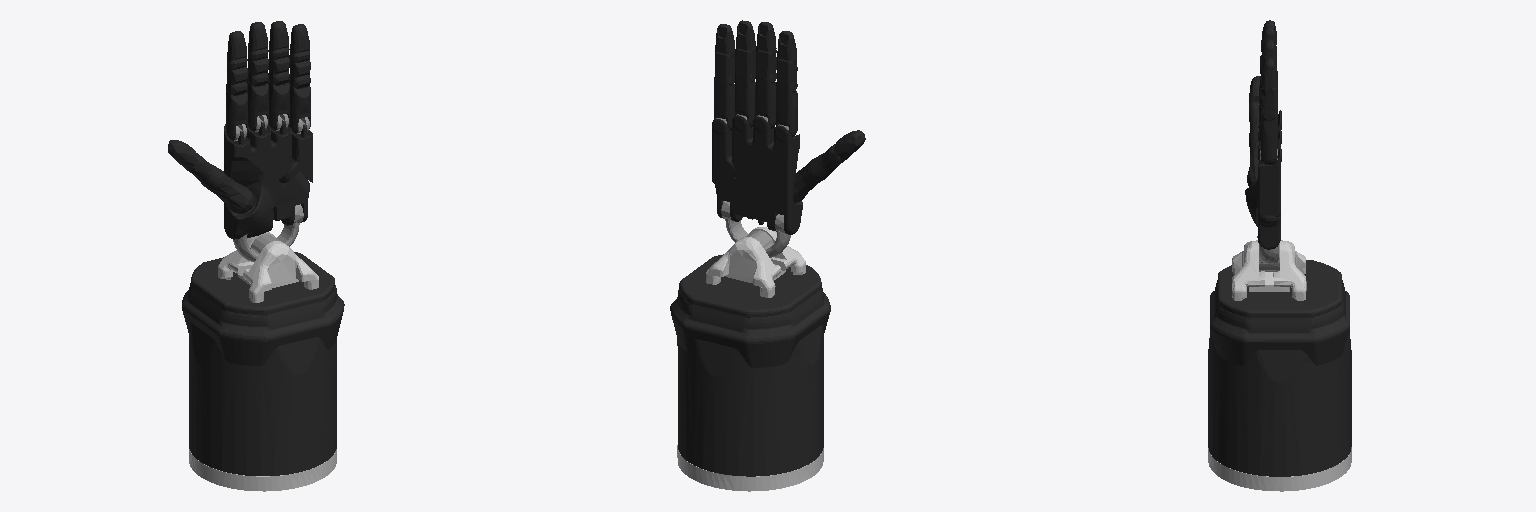
--- What the picture shows (computed from the rendered views, not written in the file) ---
Views: 3 orthographic renders of the robot side by side, from view 1: azimuth 30°, elevation 25°; view 2: azimuth 150°, elevation 25°; view 3: azimuth 270°, elevation 25°.
Robot: shadowhand_motor — 33 links, 32 joints (24 revolute, 8 fixed); root link world; default pose: every joint at zero.
Visible links, largest first — view 1: lh_forearm, lh_palm, lh_wrist, lh_lfmetacarpal, lh_thproximal, lh_ffproximal, lh_mfproximal, lh_rfproximal, lh_lfproximal, lh_ffmiddle, lh_thmiddle, lh_mfmiddle (+3 smaller); view 2: lh_forearm, lh_palm, lh_wrist, lh_lfmetacarpal, lh_ffproximal, lh_mfproximal, lh_lfproximal, lh_rfproximal, lh_thmiddle, lh_rfmiddle, lh_mfmiddle, lh_ffmiddle (+3 smaller); view 3: lh_forearm, lh_palm, lh_lfmetacarpal, lh_lfproximal, lh_lfmiddle.
Boxes of the visible links, box(x1,y1,x2,y2) form: lh_forearm: box(182, 232, 344, 491); lh_palm: box(224, 121, 309, 239); lh_wrist: box(233, 204, 303, 261); lh_lfmetacarpal: box(278, 125, 312, 182); lh_thproximal: box(210, 174, 254, 213); lh_ffproximal: box(226, 89, 247, 140); lh_mfproximal: box(247, 80, 268, 131); lh_rfproximal: box(268, 81, 289, 130); lh_lfproximal: box(289, 83, 310, 133); lh_ffmiddle: box(226, 57, 247, 95); lh_thmiddle: box(187, 153, 226, 191); lh_mfmiddle: box(247, 48, 268, 86); lh_forearm: box(670, 227, 830, 491); lh_palm: box(715, 115, 802, 234); lh_wrist: box(721, 201, 790, 257); lh_lfmetacarpal: box(712, 119, 740, 184); lh_ffproximal: box(776, 86, 797, 136); lh_mfproximal: box(755, 77, 775, 128); lh_lfproximal: box(714, 79, 734, 130); lh_rfproximal: box(735, 76, 755, 127); lh_thmiddle: box(807, 144, 846, 181); lh_rfmiddle: box(735, 48, 755, 81); lh_mfmiddle: box(755, 48, 776, 82); lh_ffmiddle: box(776, 57, 797, 92); lh_forearm: box(1208, 240, 1351, 491); lh_palm: box(1245, 110, 1281, 249); lh_lfmetacarpal: box(1258, 147, 1281, 216); lh_lfproximal: box(1259, 114, 1277, 165); lh_lfmiddle: box(1260, 84, 1277, 120).
Bounding box of the posed robot: 0.1783 × 0.1351 × 0.4454 m (x, y, z).
23 mesh visuals loaded from 11 distinct referenced files (11 Collada DAE).

robot.urdf — shadowhand_motor:
<?xml version="1.0" ?>
<!-- =================================================================================== -->
<!-- |    This document was autogenerated by xacro from [local-path]/projects/shadow/mujoco_left_hand/base/src/sr_common/sr_description/robots/shadowhand_left_motor_plus.urdf.xacro | -->
<!-- |    EDITING THIS FILE BY HAND IS NOT RECOMMENDED                                 | -->
<!-- =================================================================================== -->
<robot name="shadowhand_motor" xmlns:body="http://playerstage.sourceforge.net/gazebo/xmlschema/#body" xmlns:controller="http://playerstage.sourceforge.net/gazebo/xmlschema/#controller" xmlns:geom="http://playerstage.sourceforge.net/gazebo/xmlschema/#geom" xmlns:interface="http://playerstage.sourceforge.net/gazebo/xmlschema/#interface" xmlns:joint="http://playerstage.sourceforge.net/gazebo/xmlschema/#slider" xmlns:sensor="http://playerstage.sourceforge.net/gazebo/xmlschema/#sensor" xmlns:xacro="http://www.ros.org/wiki/xacro">
  <material name="Blue">
    <color rgba="0.0 0.0 0.8 1.0"/>
  </material>
  <material name="Green">
    <color rgba="0.0 0.8 0.0 1.0"/>
  </material>
  <material name="BiotacGreen">
    <color rgba="0.31 0.85 0.42 1.0"/>
  </material>
  <material name="Grey">
    <color rgba="0.2 0.2 0.2 1.0"/>
  </material>
  <material name="LightGrey">
    <color rgba="0.6 0.6 0.6 1.0"/>
  </material>
  <material name="Red">
    <color rgba="0.8 0.0 0.0 1.0"/>
  </material>
  <material name="White">
    <color rgba="1.0 1.0 1.0 1.0"/>
  </material>
  <gazebo>
    <plugin filename="libgazebo_ros_control.so" name="gazebo_ros_control">
      <robotSimType>sr_gazebo_sim/SrGazeboHWSim</robotSimType>
    </plugin>
  </gazebo>
  <!-- hand with cylindrical base drifts in gazebo, attach it to the world -->
  <link name="world"/>
  <joint name="lh_world_joint" type="fixed">
    <parent link="world"/>
    <child link="lh_forearm"/>
    <origin rpy="0.0 0.0 0.0" xyz="0.0 0.0 0.0"/>
  </joint>
  <link name="lh_forearm">
    <inertial>
      <origin rpy="0 0 0" xyz="0 0 0.09"/>
      <mass value="3.0"/>
      <inertia ixx="0.0138" ixy="0.0" ixz="0.0" iyy="0.0138" iyz="0.0" izz="0.00744"/>
    </inertial>
    <visual>
      <origin rpy="0 0 0" xyz="0 0 0"/>
      <geometry name="lh_forearm_visual">
        <mesh filename="package://sr_description/meshes/hand/forearm_visual_plus.dae" scale="0.001 0.001 0.001"/>
      </geometry>
      <material name="light_grey"/>
    </visual>
    <collision>
      <origin rpy="0 0 0" xyz="0 0 0"/>
      <geometry name="lh_forearm_collision">
        <mesh filename="package://sr_description/meshes/hand/forearm_collision_plus.stl" scale="0.001 0.001 0.001"/>
      </geometry>
      <material name="dark_grey">
        <color rgba="0.21961 0.21961 0.21961 1.0"/>
      </material>
    </collision>
    <!-- wrist mount -->
    <collision>
      <origin rpy="0 0.78 0" xyz="0 -0.01 0.181"/>
      <geometry>
        <box size="0.07 0.07 0.07"/>
      </geometry>
    </collision>
  </link>
  <gazebo reference="lh_forearm">
    <selfCollide>false</selfCollide>
  </gazebo>
  <link name="lh_wrist">
    <inertial>
      <origin rpy="0 0 0" xyz="0 0 0.029"/>
      <mass value="0.1"/>
      <inertia ixx="0.000035" ixy="0.0" ixz="0.0" iyy="0.000064" iyz="0.0" izz="0.0000438"/>
    </inertial>
    <visual>
      <origin rpy="0 0 0" xyz="0 0 0"/>
      <geometry name="lh_wrist_visual">
        <mesh filename="package://sr_description/meshes/hand/wrist.dae" scale="-0.001 0.001 0.001"/>
      </geometry>
      <material name="LightGrey"/>
    </visual>
    <collision>
      <origin rpy="1.5708 1.5708 0" xyz="0 0 0"/>
      <geometry name="lh_wrist_collision_geom">
        <cylinder length="0.030" radius="0.0135"/>
      </geometry>
    </collision>
    <collision>
      <origin rpy="0 1.5708 0" xyz="0.026 0 0.034"/>
      <geometry>
        <cylinder length="0.010" radius="0.011"/>
      </geometry>
    </collision>
    <collision>
      <origin rpy="0 1.5708 0" xyz="-0.031 0 0.034"/>
      <geometry>
        <cylinder length="0.010" radius="0.011"/>
      </geometry>
    </collision>
    <collision>
      <origin rpy="0 -0.7854 0" xyz="0.021 0 0.011"/>
      <geometry>
        <box size="0.027 0.018 0.010"/>
      </geometry>
    </collision>
    <collision>
      <origin rpy="0 0.7854 0" xyz="-0.026 0 0.010"/>
      <geometry>
        <box size="0.027 0.018 0.010"/>
      </geometry>
    </collision>
  </link>
  <gazebo reference="lh_wrist">
    <material>Gazebo/White</material>
    <selfCollide>false</selfCollide>
  </gazebo>
  <joint name="lh_WRJ2" type="revolute">
    <parent link="lh_forearm"/>
    <child link="lh_wrist"/>
    <origin rpy="0 0 0" xyz="0 -0.010 0.213"/>
    <axis xyz="0 -1.0 0"/>
    <limit effort="10.0" lower="-0.523598775598" upper="0.174532925199" velocity="2.0"/>
    <dynamics damping="0.1"/>
  </joint>
  <gazebo reference="lh_WRJ2">
    <provideFeedback>1</provideFeedback>
    <implicitSpringDamper>1</implicitSpringDamper>
  </gazebo>
  <transmission name="lh_wrist_transmission">
    <type>sr_mechanism_model/SimpleTransmission</type>
    <actuator name="lh_WRJ2">
      <mechanicalReduction>1</mechanicalReduction>
    </actuator>
    <joint name="lh_WRJ2">
      <hardwareInterface>hardware_interface/EffortJointInterface</hardwareInterface>
    </joint>
  </transmission>
  <link name="lh_palm">
    <inertial>
      <origin rpy="0 0 0" xyz="0 0 0.035"/>
      <mass value="0.3"/>
      <inertia ixx="0.0003581" ixy="0.0" ixz="0.0" iyy="0.0005287" iyz="0.0" izz="0.000191"/>
    </inertial>
    <visual>
      <origin rpy="0 0 0" xyz="0 0 0"/>
      <geometry name="lh_palm_visual">
        <mesh filename="package://sr_description/meshes/hand/palm.dae" scale="-0.001 0.001 0.001"/>
      </geometry>
      <material name="Grey"/>
    </visual>
    <collision>
      <origin rpy="0 0 0" xyz="-0.011 0.0085 0.038"/>
      <geometry name="lh_palm_collision_geom">
        <box size="0.062 0.007 0.098"/>
      </geometry>
    </collision>
    <collision>
      <origin rpy="0 0 0" xyz="0.002 -0.0035 0.038"/>
      <geometry>
        <box size="0.036 0.017 0.098"/>
      </geometry>
    </collision>
    <!-- palm complement below first finger -->
    <collision>
      <origin rpy="0 0 0" xyz="-0.029 -0.0035 0.082"/>
      <geometry>
        <box size="0.026 0.017 0.010"/>
      </geometry>
    </collision>
    <collision>
      <origin rpy="0.2 0 -0.25" xyz="-0.0265 -0.001 0.070"/>
      <geometry>
        <box size="0.026 0.014 0.018"/>
      </geometry>
    </collision>
    <!-- thumb pulp side -->
    <collision>
      <origin rpy="0 0 0" xyz="-0.0315 -0.0085 0.001"/>
      <geometry>
        <box size="0.021 0.027 0.024"/>
      </geometry>
    </collision>
    <!-- thumb pulp central -->
    <collision>
      <origin rpy="0 0 0.48" xyz="-0.0125 -0.015 0.009"/>
      <geometry>
        <box size="0.022 0.005 0.040"/>
      </geometry>
    </collision>
    <!-- above middle finger-->
    <collision>
      <origin rpy="0 0 0" xyz="-0.011 0 0.089"/>
      <geometry>
        <box size="0.018 0.024 0.004"/>
      </geometry>
    </collision>
    <!-- metacarpal side-->
    <collision>
      <origin rpy="0 0 0" xyz="0.03 0 0.009"/>
      <geometry>
        <box size="0.020 0.024 0.040"/>
      </geometry>
    </collision>
  </link>
  <joint name="lh_ee_fixed_joint" type="fixed">
    <parent link="lh_palm"/>
    <child link="lh_manipulator"/>
    <origin rpy="0.0 0.0 0.0" xyz="0.0 0.0 0.05"/>
  </joint>
  <link name="lh_manipulator"/>
  <joint name="lh_WRJ1" type="revolute">
    <parent link="lh_wrist"/>
    <child link="lh_palm"/>
    <origin rpy="0 0 0" xyz="0 0 0.034"/>
    <axis xyz="1 0 0"/>
    <limit effort="5.0" lower="-0.698131700798" upper="0.488692190558" velocity="2.0"/>
    <dynamics damping="0.1"/>
  </joint>
  <gazebo reference="lh_WRJ1">
    <provideFeedback>1</provideFeedback>
    <implicitSpringDamper>1</implicitSpringDamper>
  </gazebo>
  <link name="lh_imu"/>
  <joint name="lh_palm_to_imu" type="fixed">
    <parent link="lh_palm"/>
    <child link="lh_imu"/>
    <origin rpy="-1.5707963 3.141592 0.0" xyz="0.01785 0.00765 0.049125"/>
  </joint>
  <sensor name="lh_imu" update_rate="100">
    <parent link="lh_imu"/>
    <origin rpy="0 0 0" xyz="0 0 0"/>
  </sensor>
  <transmission name="lh_palm_transmission">
    <type>sr_mechanism_model/SimpleTransmission</type>
    <actuator name="lh_WRJ1">
      <mechanicalReduction>1</mechanicalReduction>
    </actuator>
    <joint name="lh_WRJ1">
      <hardwareInterface>hardware_interface/EffortJointInterface</hardwareInterface>
    </joint>
  </transmission>
  <!-- prefix can be anything but usually is "r_" or  "l_" for right and left hands distinction -->
  <gazebo reference="lh_palm">
    <sensor name="lh_palm_contact" type="contact">
      <always_on>1</always_on>
      <update_rate>1000.0</update_rate>
      <contact>
        <collision>lh_palm_collision</collision>
        <topic>lh_palm_collision</topic>
      </contact>
      <plugin filename="libgazebo_ros_bumper.so" name="lh_palm_gazebo_ros_bumper_controller">
        <alwaysOn>true</alwaysOn>
        <frameName>lh_palm</frameName>
        <updateRate>100.0</updateRate>
        <bumperTopicName>contacts/lh_palm</bumperTopicName>
      </plugin>
    </sensor>
  </gazebo>
  <link name="lh_ffknuckle">
    <inertial>
      <origin rpy="0 0 0" xyz="0 0 0"/>
      <mass value="0.008"/>
      <inertia ixx="0.00000026" ixy="0.0" ixz="0.0" iyy="0.00000026" iyz="0.0" izz="0.00000032"/>
    </inertial>
    <visual>
      <origin rpy="0 0 0" xyz="0 0 0.0005"/>
      <geometry name="lh_ffknuckle_visual">
        <mesh filename="package://sr_description/meshes/hand/knuckle.dae" scale="0.001 0.001 0.001"/>
      </geometry>
      <material name="LightGrey"/>
    </visual>
    <collision>
      <origin rpy="0 1.5708 0" xyz="0 0 0"/>
      <geometry name="lh_ffknuckle_collision_geom">
        <cylinder length="0.014" radius="0.007"/>
      </geometry>
    </collision>
  </link>
  <joint name="lh_FFJ4" type="revolute">
    <parent link="lh_palm"/>
    <child link="lh_ffknuckle"/>
    <!--<origin xyz="0.033 0 0.095" rpy="0 0 0" />-->
    <origin rpy="0 0 0" xyz="-0.033 0 0.095"/>
    <axis xyz="0 1.0 0"/>
    <limit effort="4.0" lower="-0.349065850399" upper="0.349065850399" velocity="2.0"/>
    <dynamics damping="0.1"/>
  </joint>
  <gazebo reference="lh_FFJ4">
    <provideFeedback>1</provideFeedback>
    <implicitSpringDamper>1</implicitSpringDamper>
  </gazebo>
  <transmission name="lh_ffknuckle_transmission">
    <type>sr_mechanism_model/SimpleTransmission</type>
    <actuator name="lh_FFJ4">
      <mechanicalReduction>1</mechanicalReduction>
    </actuator>
    <joint name="lh_FFJ4">
      <hardwareInterface>hardware_interface/EffortJointInterface</hardwareInterface>
    </joint>
  </transmission>
  <!-- prefix can be anything but usually is "r_" or  "l_" for right and left hands distinction -->
  <gazebo reference="lh_ffknuckle">
    <sensor name="lh_ffknuckle_contact" type="contact">
      <always_on>1</always_on>
      <update_rate>1000.0</update_rate>
      <contact>
        <collision>lh_ffknuckle_collision</collision>
        <topic>lh_ffknuckle_collision</topic>
      </contact>
      <plugin filename="libgazebo_ros_bumper.so" name="lh_ffknuckle_gazebo_ros_bumper_controller">
        <alwaysOn>true</alwaysOn>
        <frameName>lh_ffknuckle</frameName>
        <updateRate>100.0</updateRate>
        <bumperTopicName>contacts/lh_ff/knuckle</bumperTopicName>
      </plugin>
    </sensor>
    <material>Gazebo/Grey</material>
  </gazebo>
  <link name="lh_ffproximal">
    <inertial>
      <mass value="0.030"/>
      <origin xyz="0 0 0.0225"/>
      <inertia ixx="0.0000098" ixy="0.0" ixz="0.0" iyy="0.00001" iyz="0.0" izz="0.0000018"/>
    </inertial>
    <visual>
      <origin rpy="0 0 0" xyz="0 0 0"/>
      <geometry name="lh_ffproximal_visual">
        <mesh filename="package://sr_description/meshes/hand/F3.dae" scale="0.001 0.001 0.001"/>
      </geometry>
      <material name="Grey"/>
    </visual>
    <collision>
      <origin rpy="0 0 0" xyz="0 0 0.025"/>
      <geometry name="lh_ffproximal_collision_geom">
        <cylinder length="0.040" radius="0.007"/>
      </geometry>
    </collision>
  </link>
  <joint name="lh_FFJ3" type="revolute">
    <parent link="lh_ffknuckle"/>
    <child link="lh_ffproximal"/>
    <origin rpy="0 0 0" xyz="0 0 0"/>
    <axis xyz="1 0 0"/>
    <limit effort="4.0" lower="0" upper="1.57079632679" velocity="2.0"/>
    <dynamics damping="0.1"/>
  </joint>
  <gazebo reference="lh_FFJ3">
    <provideFeedback>1</provideFeedback>
    <implicitSpringDamper>1</implicitSpringDamper>
  </gazebo>
  <transmission name="lh_ffproximal_transmission">
    <type>sr_mechanism_model/SimpleTransmission</type>
    <actuator name="lh_FFJ3">
      <mechanicalReduction>1</mechanicalReduction>
    </actuator>
    <joint name="lh_FFJ3">
      <hardwareInterface>hardware_interface/EffortJointInterface</hardwareInterface>
    </joint>
  </transmission>
  <!-- prefix can be anything but usually is "r_" or  "l_" for right and left hands distinction -->
  <gazebo reference="lh_ffproximal">
    <sensor name="lh_ffproximal_contact" type="contact">
      <always_on>1</always_on>
      <update_rate>1000.0</update_rate>
      <contact>
        <collision>lh_ffproximal_collision</collision>
        <topic>lh_ffproximal_collision</topic>
      </contact>
      <plugin filename="libgazebo_ros_bumper.so" name="lh_ffproximal_gazebo_ros_bumper_controller">
        <alwaysOn>true</alwaysOn>
        <frameName>lh_ffproximal</frameName>
        <updateRate>100.0</updateRate>
        <bumperTopicName>contacts/lh_ff/proximal</bumperTopicName>
      </plugin>
    </sensor>
    <selfCollide>true</selfCollide>
  </gazebo>
  <link name="lh_ffmiddle">
    <inertial>
      <origin rpy="0 0 0" xyz="0 0 0.0125"/>
      <mass value="0.017"/>
      <inertia ixx="0.0000026" ixy="0.0" ixz="0.0" iyy="0.0000027" iyz="0.0" izz="0.00000087"/>
    </inertial>
    <visual>
      <origin rpy="0 0 0" xyz="0 0 0"/>
      <geometry name="lh_ffmiddle_visual">
        <mesh filename="package://sr_description/meshes/hand/F2.dae" scale="0.001 0.001 0.001"/>
      </geometry>
      <material name="Grey"/>
    </visual>
    <collision>
      <origin rpy="0 0 0" xyz="0 0 0.0125"/>
      <geometry name="lh_ffmiddle_collision_geom">
        <cylinder length="0.025" radius="0.007"/>
      </geometry>
    </collision>
    <collision>
      <origin rpy="0 0 0" xyz="0 0 0.0"/>
      <geometry>
        <sphere radius="0.007"/>
      </geometry>
    </collision>
    <collision>
      <origin rpy="0 0 0" xyz="0 0 0.025"/>
      <geometry>
        <sphere radius="0.007"/>
      </geometry>
    </collision>
  </link>
  <joint name="lh_FFJ2" type="revolute">
    <parent link="lh_ffproximal"/>
    <child link="lh_ffmiddle"/>
    <origin rpy="0 0 0" xyz="0 0 0.045"/>
    <axis xyz="1 0 0"/>
    <limit effort="4.0" lower="0" upper="1.57079632679" velocity="2.0"/>
    <dynamics damping="0.1"/>
  </joint>
  <gazebo reference="lh_FFJ2">
    <provideFeedback>1</provideFeedback>
    <implicitSpringDamper>1</implicitSpringDamper>
  </gazebo>
  <transmission name="lh_ffmiddle_transmission">
    <type>sr_mechanism_model/SimpleTransmission</type>
    <actuator name="lh_FFJ2">
      <mechanicalReduction>1</mechanicalReduction>
    </actuator>
    <joint name="lh_FFJ2">
      <hardwareInterface>hardware_interface/EffortJointInterface</hardwareInterface>
    </joint>
    <!-- <joint name="lh_FFJ1">
      <hardwareInterface>hardware_interface/EffortJointInterface</hardwareInterface>
    </joint> -->
  </transmission>
  <!-- prefix can be anything but usually is "r_" or  "l_" for right and left hands distinction -->
  <gazebo reference="lh_ffmiddle">
    <sensor name="lh_ffmiddle_contact" type="contact">
      <always_on>1</always_on>
      <update_rate>1000.0</update_rate>
      <contact>
        <collision>lh_ffmiddle_collision</collision>
        <topic>lh_ffmiddle_collision</topic>
      </contact>
      <plugin filename="libgazebo_ros_bumper.so" name="lh_ffproximal_gazebo_ros_bumper_controller">
        <alwaysOn>true</alwaysOn>
        <frameName>lh_ffmiddle</frameName>
        <updateRate>100.0</updateRate>
        <bumperTopicName>contacts/lh_ff/middle</bumperTopicName>
      </plugin>
    </sensor>
    <selfCollide>true</selfCollide>
  </gazebo>
  <link name="lh_ffdistal">
    <inertial>
      <mass value="0.012"/>
      <origin xyz="0 0 0.012"/>
      <inertia ixx="0.00000094" ixy="0.0" ixz="0.0" iyy="0.0000011" iyz="0.0" izz="0.00000053"/>
    </inertial>
    <visual>
      <origin rpy="0 0 0" xyz="0 0 0"/>
      <geometry name="lh_ffdistal_visual">
        <!-- Standard distal  -->
        <mesh filename="package://sr_description/meshes/hand/F1.dae" scale="0.001 0.001 0.001"/>
      </geometry>
      <material name="Grey"/>
    </visual>
    <collision>
      <origin rpy="0 0 0" xyz="0 0 0"/>
      <geometry name="lh_ffdistal_collision_geom">
        <!-- Standard distal  -->
        <mesh filename="package://sr_description/meshes/hand/F1.dae" scale="0.001 0.001 0.001"/>
      </geometry>
    </collision>
  </link>
  <joint name="lh_FFJ1" type="revolute">
    <parent link="lh_ffmiddle"/>
    <child link="lh_ffdistal"/>
    <origin rpy="0 0 0" xyz="0 0 0.025"/>
    <axis xyz="1 0 0"/>
    <!-- standard distal joint -->
    <limit effort="4.0" lower="0" upper="1.57079632679" velocity="2.0"/>
    <dynamics damping="0.1"/>
  </joint>
  <gazebo reference="lh_FFJ1">
    <provideFeedback>1</provideFeedback>
    <implicitSpringDamper>1</implicitSpringDamper>
  </gazebo>
  <link name="lh_fftip">
    <inertial>
      <mass value="0.001"/>
      <inertia ixx="0.0" ixy="0.0" ixz="0.0" iyy="0.0" iyz="0.0" izz="0.0"/>
    </inertial>
  </link>
  <joint name="lh_FFtip" type="fixed">
    <parent link="lh_ffdistal"/>
    <child link="lh_fftip"/>
    <origin rpy="0 0 0" xyz="0 0 0.026"/>
  </joint>
  <transmission name="lh_ffdistal_transmission">
    <type>sr_mechanism_model/SimpleTransmission</type>
    <actuator name="lh_FFJ1">
      <mechanicalReduction>1</mechanicalReduction>
    </actuator>
    <joint name="lh_FFJ1">
      <hardwareInterface>hardware_interface/EffortJointInterface</hardwareInterface>
    </joint>
  </transmission>
  <!-- prefix can be anything but usually is "r_" or  "l_" for right and left hands distinction -->
  <gazebo reference="lh_ffdistal">
    <sensor name="lh_ffdistal_contact" type="contact">
      <always_on>1</always_on>
      <update_rate>1000.0</update_rate>
      <contact>
        <collision>lh_ffdistal_collision</collision>
        <topic>lh_ffdistal_collision</topic>
      </contact>
      <plugin filename="libgazebo_ros_bumper.so" name="lh_ffdistal_gazebo_ros_bumper_controller">
        <alwaysOn>true</alwaysOn>
        <frameName>lh_ffdistal</frameName>
        <updateRate>100.0</updateRate>
        <bumperTopicName>contacts/lh_ff/distal</bumperTopicName>
      </plugin>
    </sensor>
    <mu1 value="500.0"/>
    <mu2 value="500.0"/>
    <kp value="10000000.0"/>
    <kd value="1.0"/>
    <selfCollide>true</selfCollide>
  </gazebo>
  <link name="lh_mfknuckle">
    <inertial>
      <origin rpy="0 0 0" xyz="0 0 0"/>
      <mass value="0.008"/>
      <inertia ixx="0.00000026" ixy="0.0" ixz="0.0" iyy="0.00000026" iyz="0.0" izz="0.00000032"/>
    </inertial>
    <visual>
      <origin rpy="0 0 0" xyz="0 0 0.0005"/>
      <geometry name="lh_mfknuckle_visual">
        <mesh filename="package://sr_description/meshes/hand/knuckle.dae" scale="0.001 0.001 0.001"/>
      </geometry>
      <material name="LightGrey"/>
    </visual>
    <collision>
      <origin rpy="0 1.5708 0" xyz="0 0 0"/>
      <geometry name="lh_mfknuckle_collision_geom">
        <cylinder length="0.014" radius="0.007"/>
      </geometry>
    </collision>
  </link>
  <joint name="lh_MFJ4" type="revolute">
    <parent link="lh_palm"/>
    <child link="lh_mfknuckle"/>
    <!--<origin xyz="0.033 0 0.095" rpy="0 0 0" />-->
    <origin rpy="0 0 0" xyz="-0.011 0 0.099"/>
    <axis xyz="0 1.0 0"/>
    <limit effort="4.0" lower="-0.349065850399" upper="0.349065850399" velocity="2.0"/>
    <dynamics damping="0.1"/>
  </joint>
  <gazebo reference="lh_MFJ4">
    <provideFeedback>1</provideFeedback>
    <implicitSpringDamper>1</implicitSpringDamper>
  </gazebo>
  <transmission name="lh_mfknuckle_transmission">
    <type>sr_mechanism_model/SimpleTransmission</type>
    <actuator name="lh_MFJ4">
      <mechanicalReduction>1</mechanicalReduction>
    </actuator>
    <joint name="lh_MFJ4">
      <hardwareInterface>hardware_interface/EffortJointInterface</hardwareInterface>
    </joint>
  </transmission>
  <!-- prefix can be anything but usually is "r_" or  "l_" for right and left hands distinction -->
  <gazebo reference="lh_mfknuckle">
    <sensor name="lh_mfknuckle_contact" type="contact">
      <always_on>1</always_on>
      <update_rate>1000.0</update_rate>
      <contact>
        <collision>lh_mfknuckle_collision</collision>
        <topic>lh_mfknuckle_collision</topic>
      </contact>
      <plugin filename="libgazebo_ros_bumper.so" name="lh_mfknuckle_gazebo_ros_bumper_controller">
        <alwaysOn>true</alwaysOn>
        <frameName>lh_mfknuckle</frameName>
        <updateRate>100.0</updateRate>
        <bumperTopicName>contacts/lh_mf/knuckle</bumperTopicName>
      </plugin>
    </sensor>
    <material>Gazebo/Grey</material>
  </gazebo>
  <link name="lh_mfproximal">
    <inertial>
      <mass value="0.030"/>
      <origin xyz="0 0 0.0225"/>
      <inertia ixx="0.0000098" ixy="0.0" ixz="0.0" iyy="0.00001" iyz="0.0" izz="0.0000018"/>
    </inertial>
    <visual>
      <origin rpy="0 0 0" xyz="0 0 0"/>
      <geometry name="lh_mfproximal_visual">
        <mesh filename="package://sr_description/meshes/hand/F3.dae" scale="0.001 0.001 0.001"/>
      </geometry>
      <material name="Grey"/>
    </visual>
    <collision>
      <origin rpy="0 0 0" xyz="0 0 0.025"/>
      <geometry name="lh_mfproximal_collision_geom">
        <cylinder length="0.040" radius="0.007"/>
      </geometry>
    </collision>
  </link>
  <joint name="lh_MFJ3" type="revolute">
    <parent link="lh_mfknuckle"/>
    <child link="lh_mfproximal"/>
    <origin rpy="0 0 0" xyz="0 0 0"/>
    <axis xyz="1 0 0"/>
    <limit effort="4.0" lower="0" upper="1.57079632679" velocity="2.0"/>
    <dynamics damping="0.1"/>
  </joint>
  <gazebo reference="lh_MFJ3">
    <provideFeedback>1</provideFeedback>
    <implicitSpringDamper>1</implicitSpringDamper>
  </gazebo>
  <transmission name="lh_mfproximal_transmission">
    <type>sr_mechanism_model/SimpleTransmission</type>
    <actuator name="lh_MFJ3">
      <mechanicalReduction>1</mechanicalReduction>
    </actuator>
    <joint name="lh_MFJ3">
      <hardwareInterface>hardware_interface/EffortJointInterface</hardwareInterface>
    </joint>
  </transmission>
  <!-- prefix can be anything but usually is "r_" or  "l_" for right and left hands distinction -->
  <gazebo reference="lh_mfproximal">
    <sensor name="lh_mfproximal_contact" type="contact">
      <always_on>1</always_on>
      <update_rate>1000.0</update_rate>
      <contact>
        <collision>lh_mfproximal_collision</collision>
        <topic>lh_mfproximal_collision</topic>
      </contact>
      <plugin filename="libgazebo_ros_bumper.so" name="lh_mfproximal_gazebo_ros_bumper_controller">
        <alwaysOn>true</alwaysOn>
        <frameName>lh_mfproximal</frameName>
        <updateRate>100.0</updateRate>
        <bumperTopicName>contacts/lh_mf/proximal</bumperTopicName>
      </plugin>
    </sensor>
    <selfCollide>true</selfCollide>
  </gazebo>
  <link name="lh_mfmiddle">
    <inertial>
      <origin rpy="0 0 0" xyz="0 0 0.0125"/>
      <mass value="0.017"/>
      <inertia ixx="0.0000026" ixy="0.0" ixz="0.0" iyy="0.0000027" iyz="0.0" izz="0.00000087"/>
    </inertial>
    <visual>
      <origin rpy="0 0 0" xyz="0 0 0"/>
      <geometry name="lh_mfmiddle_visual">
        <mesh filename="package://sr_description/meshes/hand/F2.dae" scale="0.001 0.001 0.001"/>
      </geometry>
      <material name="Grey"/>
    </visual>
    <collision>
      <origin rpy="0 0 0" xyz="0 0 0.0125"/>
      <geometry name="lh_mfmiddle_collision_geom">
        <cylinder length="0.025" radius="0.007"/>
      </geometry>
    </collision>
    <collision>
      <origin rpy="0 0 0" xyz="0 0 0.0"/>
      <geometry>
        <sphere radius="0.007"/>
      </geometry>
    </collision>
    <collision>
      <origin rpy="0 0 0" xyz="0 0 0.025"/>
      <geometry>
        <sphere radius="0.007"/>
      </geometry>
    </collision>
  </link>
  <joint name="lh_MFJ2" type="revolute">
    <parent link="lh_mfproximal"/>
    <child link="lh_mfmiddle"/>
    <origin rpy="0 0 0" xyz="0 0 0.045"/>
    <axis xyz="1 0 0"/>
    <limit effort="4.0" lower="0" upper="1.57079632679" velocity="2.0"/>
    <dynamics damping="0.1"/>
  </joint>
  <gazebo reference="lh_MFJ2">
    <provideFeedback>1</provideFeedback>
    <implicitSpringDamper>1</implicitSpringDamper>
  </gazebo>
  <transmission name="lh_mfmiddle_transmission">
    <type>sr_mechanism_model/SimpleTransmission</type>
    <actuator name="lh_MFJ2">
      <mechanicalReduction>1</mechanicalReduction>
    </actuator>
    <joint name="lh_MFJ2">
      <hardwareInterface>hardware_interface/EffortJointInterface</hardwareInterface>
    </joint>
  </transmission>
  <!-- prefix can be anything but usually is "r_" or  "l_" for right and left hands distinction -->
  <gazebo reference="lh_mfmiddle">
    <sensor name="lh_mfmiddle_contact" type="contact">
      <always_on>1</always_on>
      <update_rate>1000.0</update_rate>
      <contact>
        <collision>lh_mfmiddle_collision</collision>
        <topic>lh_mfmiddle_collision</topic>
      </contact>
      <plugin filename="libgazebo_ros_bumper.so" name="lh_mfproximal_gazebo_ros_bumper_controller">
        <alwaysOn>true</alwaysOn>
        <frameName>lh_mfmiddle</frameName>
        <updateRate>100.0</updateRate>
        <bumperTopicName>contacts/lh_mf/middle</bumperTopicName>
      </plugin>
    </sensor>
    <selfCollide>true</selfCollide>
  </gazebo>
  <link name="lh_mfdistal">
    <inertial>
      <mass value="0.012"/>
      <origin xyz="0 0 0.012"/>
      <inertia ixx="0.00000094" ixy="0.0" ixz="0.0" iyy="0.0000011" iyz="0.0" izz="0.00000053"/>
    </inertial>
    <visual>
      <origin rpy="0 0 0" xyz="0 0 0"/>
      <geometry name="lh_mfdistal_visual">
        <!-- Standard distal  -->
        <mesh filename="package://sr_description/meshes/hand/F1.dae" scale="0.001 0.001 0.001"/>
      </geometry>
      <material name="Grey"/>
    </visual>
    <collision>
      <origin rpy="0 0 0" xyz="0 0 0"/>
      <geometry name="lh_mfdistal_collision_geom">
        <!-- Standard distal  -->
        <mesh filename="package://sr_description/meshes/hand/F1.dae" scale="0.001 0.001 0.001"/>
      </geometry>
    </collision>
  </link>
  <joint name="lh_MFJ1" type="revolute">
    <parent link="lh_mfmiddle"/>
    <child link="lh_mfdistal"/>
    <origin rpy="0 0 0" xyz="0 0 0.025"/>
    <axis xyz="1 0 0"/>
    <!-- standard distal joint -->
    <limit effort="4.0" lower="0" upper="1.57079632679" velocity="2.0"/>
    <dynamics damping="0.1"/>
  </joint>
  <gazebo reference="lh_MFJ1">
    <provideFeedback>1</provideFeedback>
    <implicitSpringDamper>1</implicitSpringDamper>
  </gazebo>
  <link name="lh_mftip">
    <inertial>
      <mass value="0.001"/>
      <inertia ixx="0.0" ixy="0.0" ixz="0.0" iyy="0.0" iyz="0.0" izz="0.0"/>
    </inertial>
  </link>
  <joint name="lh_MFtip" type="fixed">
    <parent link="lh_mfdistal"/>
    <child link="lh_mftip"/>
    <origin rpy="0 0 0" xyz="0 0 0.026"/>
  </joint>
  <transmission name="lh_mfdistal_transmission">
    <type>sr_mechanism_model/SimpleTransmission</type>
    <actuator name="lh_MFJ1">
      <mechanicalReduction>1</mechanicalReduction>
    </actuator>
    <joint name="lh_MFJ1">
      <hardwareInterface>hardware_interface/EffortJointInterface</hardwareInterface>
    </joint>
  </transmission>
  <!-- prefix can be anything but usually is "r_" or  "l_" for right and left hands distinction -->
  <gazebo reference="lh_mfdistal">
    <sensor name="lh_mfdistal_contact" type="contact">
      <always_on>1</always_on>
      <update_rate>1000.0</update_rate>
      <contact>
        <collision>lh_mfdistal_collision</collision>
        <topic>lh_mfdistal_collision</topic>
      </contact>
      <plugin filename="libgazebo_ros_bumper.so" name="lh_mfdistal_gazebo_ros_bumper_controller">
        <alwaysOn>true</alwaysOn>
        <frameName>lh_mfdistal</frameName>
        <updateRate>100.0</updateRate>
        <bumperTopicName>contacts/lh_mf/distal</bumperTopicName>
      </plugin>
    </sensor>
    <mu1 value="500.0"/>
    <mu2 value="500.0"/>
    <kp value="10000000.0"/>
    <kd value="1.0"/>
    <selfCollide>true</selfCollide>
  </gazebo>
  <link name="lh_rfknuckle">
    <inertial>
      <origin rpy="0 0 0" xyz="0 0 0"/>
      <mass value="0.008"/>
      <inertia ixx="0.00000026" ixy="0.0" ixz="0.0" iyy="0.00000026" iyz="0.0" izz="0.00000032"/>
    </inertial>
    <visual>
      <origin rpy="0 0 0" xyz="0 0 0.0005"/>
      <geometry name="lh_rfknuckle_visual">
        <mesh filename="package://sr_description/meshes/hand/knuckle.dae" scale="0.001 0.001 0.001"/>
      </geometry>
      <material name="LightGrey"/>
    </visual>
    <collision>
      <origin rpy="0 1.5708 0" xyz="0 0 0"/>
      <geometry name="lh_rfknuckle_collision_geom">
        <cylinder length="0.014" radius="0.007"/>
      </geometry>
    </collision>
  </link>
  <joint name="lh_RFJ4" type="revolute">
    <parent link="lh_palm"/>
    <child link="lh_rfknuckle"/>
    <!--<origin xyz="0.033 0 0.095" rpy="0 0 0" />-->
    <origin rpy="0 0 0" xyz="0.011 0 0.095"/>
    <axis xyz="0 -1.0 0"/>
    <limit effort="4.0" lower="-0.349065850399" upper="0.349065850399" velocity="2.0"/>
    <dynamics damping="0.1"/>
  </joint>
  <gazebo reference="lh_RFJ4">
    <provideFeedback>1</provideFeedback>
    <implicitSpringDamper>1</implicitSpringDamper>
  </gazebo>
  <transmission name="lh_rfknuckle_transmission">
    <type>sr_mechanism_model/SimpleTransmission</type>
    <actuator name="lh_RFJ4">
      <mechanicalReduction>1</mechanicalReduction>
    </actuator>
    <joint name="lh_RFJ4">
      <hardwareInterface>hardware_interface/EffortJointInterface</hardwareInterface>
    </joint>
  </transmission>
  <!-- prefix can be anything but usually is "r_" or  "l_" for right and left hands distinction -->
  <gazebo reference="lh_rfknuckle">
    <sensor name="lh_rfknuckle_contact" type="contact">
      <always_on>1</always_on>
      <update_rate>1000.0</update_rate>
      <contact>
        <collision>lh_rfknuckle_collision</collision>
        <topic>lh_rfknuckle_collision</topic>
      </contact>
      <plugin filename="libgazebo_ros_bumper.so" name="lh_rfknuckle_gazebo_ros_bumper_controller">
        <alwaysOn>true</alwaysOn>
        <frameName>lh_rfknuckle</frameName>
        <updateRate>100.0</updateRate>
        <bumperTopicName>contacts/lh_rf/knuckle</bumperTopicName>
      </plugin>
    </sensor>
    <material>Gazebo/Grey</material>
  </gazebo>
  <link name="lh_rfproximal">
    <inertial>
      <mass value="0.030"/>
      <origin xyz="0 0 0.0225"/>
      <inertia ixx="0.0000098" ixy="0.0" ixz="0.0" iyy="0.00001" iyz="0.0" izz="0.0000018"/>
    </inertial>
    <visual>
      <origin rpy="0 0 0" xyz="0 0 0"/>
      <geometry name="lh_rfproximal_visual">
        <mesh filename="package://sr_description/meshes/hand/F3.dae" scale="0.001 0.001 0.001"/>
      </geometry>
      <material name="Grey"/>
    </visual>
    <collision>
      <origin rpy="0 0 0" xyz="0 0 0.025"/>
      <geometry name="lh_rfproximal_collision_geom">
        <cylinder length="0.040" radius="0.007"/>
      </geometry>
    </collision>
  </link>
  <joint name="lh_RFJ3" type="revolute">
    <parent link="lh_rfknuckle"/>
    <child link="lh_rfproximal"/>
    <origin rpy="0 0 0" xyz="0 0 0"/>
    <axis xyz="1 0 0"/>
    <limit effort="4.0" lower="0" upper="1.57079632679" velocity="2.0"/>
    <dynamics damping="0.1"/>
  </joint>
  <gazebo reference="lh_RFJ3">
    <provideFeedback>1</provideFeedback>
    <implicitSpringDamper>1</implicitSpringDamper>
  </gazebo>
  <transmission name="lh_rfproximal_transmission">
    <type>sr_mechanism_model/SimpleTransmission</type>
    <actuator name="lh_RFJ3">
      <mechanicalReduction>1</mechanicalReduction>
    </actuator>
    <joint name="lh_RFJ3">
      <hardwareInterface>hardware_interface/EffortJointInterface</hardwareInterface>
    </joint>
  </transmission>
  <!-- prefix can be anything but usually is "r_" or  "l_" for right and left hands distinction -->
  <gazebo reference="lh_rfproximal">
    <sensor name="lh_rfproximal_contact" type="contact">
      <always_on>1</always_on>
      <update_rate>1000.0</update_rate>
      <contact>
        <collision>lh_rfproximal_collision</collision>
        <topic>lh_rfproximal_collision</topic>
      </contact>
      <plugin filename="libgazebo_ros_bumper.so" name="lh_rfproximal_gazebo_ros_bumper_controller">
        <alwaysOn>true</alwaysOn>
        <frameName>lh_rfproximal</frameName>
        <updateRate>100.0</updateRate>
        <bumperTopicName>contacts/lh_rf/proximal</bumperTopicName>
      </plugin>
    </sensor>
    <selfCollide>true</selfCollide>
  </gazebo>
  <link name="lh_rfmiddle">
    <inertial>
      <origin rpy="0 0 0" xyz="0 0 0.0125"/>
      <mass value="0.017"/>
      <inertia ixx="0.0000026" ixy="0.0" ixz="0.0" iyy="0.0000027" iyz="0.0" izz="0.00000087"/>
    </inertial>
    <visual>
      <origin rpy="0 0 0" xyz="0 0 0"/>
      <geometry name="lh_rfmiddle_visual">
        <mesh filename="package://sr_description/meshes/hand/F2.dae" scale="0.001 0.001 0.001"/>
      </geometry>
      <material name="Grey"/>
    </visual>
    <collision>
      <origin rpy="0 0 0" xyz="0 0 0.0125"/>
      <geometry name="lh_rfmiddle_collision_geom">
        <cylinder length="0.025" radius="0.007"/>
      </geometry>
    </collision>
    <collision>
      <origin rpy="0 0 0" xyz="0 0 0.0"/>
      <geometry>
        <sphere radius="0.007"/>
      </geometry>
    </collision>
    <collision>
      <origin rpy="0 0 0" xyz="0 0 0.025"/>
      <geometry>
        <sphere radius="0.007"/>
      </geometry>
    </collision>
  </link>
  <joint name="lh_RFJ2" type="revolute">
    <parent link="lh_rfproximal"/>
    <child link="lh_rfmiddle"/>
    <origin rpy="0 0 0" xyz="0 0 0.045"/>
    <axis xyz="1 0 0"/>
    <limit effort="4.0" lower="0" upper="1.57079632679" velocity="2.0"/>
    <dynamics damping="0.1"/>
  </joint>
  <gazebo reference="lh_RFJ2">
    <provideFeedback>1</provideFeedback>
    <implicitSpringDamper>1</implicitSpringDamper>
  </gazebo>
  <transmission name="lh_rfmiddle_transmission">
    <type>sr_mechanism_model/SimpleTransmission</type>
    <actuator name="lh_RFJ2">
      <mechanicalReduction>1</mechanicalReduction>
    </actuator>
    <joint name="lh_RFJ2">
      <hardwareInterface>hardware_interface/EffortJointInterface</hardwareInterface>
    </joint>
    <!-- <secondJoint name="${prefix}${joint_prefix}J2"/> -->
  </transmission>
  <!-- prefix can be anything but usually is "r_" or  "l_" for right and left hands distinction -->
  <gazebo reference="lh_rfmiddle">
    <sensor name="lh_rfmiddle_contact" type="contact">
      <always_on>1</always_on>
      <update_rate>1000.0</update_rate>
      <contact>
        <collision>lh_rfmiddle_collision</collision>
        <topic>lh_rfmiddle_collision</topic>
      </contact>
      <plugin filename="libgazebo_ros_bumper.so" name="lh_rfproximal_gazebo_ros_bumper_controller">
        <alwaysOn>true</alwaysOn>
        <frameName>lh_rfmiddle</frameName>
        <updateRate>100.0</updateRate>
        <bumperTopicName>contacts/lh_rf/middle</bumperTopicName>
      </plugin>
    </sensor>
    <selfCollide>true</selfCollide>
  </gazebo>
  <link name="lh_rfdistal">
    <inertial>
      <mass value="0.012"/>
      <origin xyz="0 0 0.012"/>
      <inertia ixx="0.00000094" ixy="0.0" ixz="0.0" iyy="0.0000011" iyz="0.0" izz="0.00000053"/>
    </inertial>
    <visual>
      <origin rpy="0 0 0" xyz="0 0 0"/>
      <geometry name="lh_rfdistal_visual">
        <!-- Standard distal  -->
        <mesh filename="package://sr_description/meshes/hand/F1.dae" scale="0.001 0.001 0.001"/>
      </geometry>
      <material name="Grey"/>
    </visual>
    <collision>
      <origin rpy="0 0 0" xyz="0 0 0"/>
      <geometry name="lh_rfdistal_collision_geom">
        <!-- Standard distal  -->
        <mesh filename="package://sr_description/meshes/hand/F1.dae" scale="0.001 0.001 0.001"/>
      </geometry>
    </collision>
  </link>
  <joint name="lh_RFJ1" type="revolute">
    <parent link="lh_rfmiddle"/>
    <child link="lh_rfdistal"/>
    <origin rpy="0 0 0" xyz="0 0 0.025"/>
    <axis xyz="1 0 0"/>
    <!-- standard distal joint -->
    <limit effort="4.0" lower="0" upper="1.57079632679" velocity="2.0"/>
    <dynamics damping="0.1"/>
  </joint>
  <gazebo reference="lh_RFJ1">
    <provideFeedback>1</provideFeedback>
    <implicitSpringDamper>1</implicitSpringDamper>
  </gazebo>
  <link name="lh_rftip">
    <inertial>
      <mass value="0.001"/>
      <inertia ixx="0.0" ixy="0.0" ixz="0.0" iyy="0.0" iyz="0.0" izz="0.0"/>
    </inertial>
  </link>
  <joint name="lh_RFtip" type="fixed">
    <parent link="lh_rfdistal"/>
    <child link="lh_rftip"/>
    <origin rpy="0 0 0" xyz="0 0 0.026"/>
  </joint>
  <transmission name="lh_rfdistal_transmission">
    <type>sr_mechanism_model/SimpleTransmission</type>
    <actuator name="lh_RFJ1">
      <mechanicalReduction>1</mechanicalReduction>
    </actuator>
    <joint name="lh_RFJ1">
      <hardwareInterface>hardware_interface/EffortJointInterface</hardwareInterface>
    </joint>
  </transmission>
  <!-- prefix can be anything but usually is "r_" or  "l_" for right and left hands distinction -->
  <gazebo reference="lh_rfdistal">
    <sensor name="lh_rfdistal_contact" type="contact">
      <always_on>1</always_on>
      <update_rate>1000.0</update_rate>
      <contact>
        <collision>lh_rfdistal_collision</collision>
        <topic>lh_rfdistal_collision</topic>
      </contact>
      <plugin filename="libgazebo_ros_bumper.so" name="lh_rfdistal_gazebo_ros_bumper_controller">
        <alwaysOn>true</alwaysOn>
        <frameName>lh_rfdistal</frameName>
        <updateRate>100.0</updateRate>
        <bumperTopicName>contacts/lh_rf/distal</bumperTopicName>
      </plugin>
    </sensor>
    <mu1 value="500.0"/>
    <mu2 value="500.0"/>
    <kp value="10000000.0"/>
    <kd value="1.0"/>
    <selfCollide>true</selfCollide>
  </gazebo>
  <link name="lh_lfmetacarpal">
    <inertial>
      <origin rpy="0 0 0" xyz="0 0 0.04"/>
      <mass value="0.030"/>
      <inertia ixx="0.0000145" ixy="0.0" ixz="0.0" iyy="0.00001638" iyz="0.0" izz="0.000004272"/>
    </inertial>
    <visual>
      <origin rpy="0 0 0" xyz="0 0 0"/>
      <geometry name="lh_lfmetacarpal_visual">
        <mesh filename="package://sr_description/meshes/hand/lfmetacarpal.dae" scale="-0.001 0.001 0.001"/>
      </geometry>
      <material name="Grey"/>
    </visual>
    <collision>
      <origin rpy="0 0 0" xyz="0 0 0.038"/>
      <geometry name="lh_lfmetacarpal_collision_geom">
        <box size="0.018 0.024 0.040"/>
      </geometry>
    </collision>
  </link>
  <joint name="lh_LFJ5" type="revolute">
    <parent link="lh_palm"/>
    <child link="lh_lfmetacarpal"/>
    <origin rpy="0 0 0" xyz="0.033 0 0.02071"/>
    <axis xyz="0.573576436 0 -0.819152044"/>
    <limit effort="4.0" lower="0" upper="0.785398163397" velocity="2.0"/>
    <dynamics damping="0.1"/>
  </joint>
  <gazebo reference="lh_LFJ5">
    <provideFeedback>1</provideFeedback>
    <implicitSpringDamper>1</implicitSpringDamper>
  </gazebo>
  <transmission name="lh_lfmetacarpal_transmission">
    <type>sr_mechanism_model/SimpleTransmission</type>
    <actuator name="lh_LFJ5">
      <mechanicalReduction>1</mechanicalReduction>
    </actuator>
    <joint name="lh_LFJ5">
      <hardwareInterface>hardware_interface/EffortJointInterface</hardwareInterface>
    </joint>
  </transmission>
  <!-- prefix can be anything but usually is "r_" or  "l_" for right and left hands distinction -->
  <gazebo reference="lh_lfmetacarpal">
    <sensor name="lh_lfmetacarpal_contact" type="contact">
      <always_on>1</always_on>
      <update_rate>1000.0</update_rate>
      <contact>
        <collision>lh_lfmetacarpal_collision</collision>
        <topic>lh_lfmetacarpal_collision</topic>
      </contact>
      <plugin filename="libgazebo_ros_bumper.so" name="lh_lfmetacarpal_gazebo_ros_bumper_controller">
        <alwaysOn>true</alwaysOn>
        <frameName>lh_lfmetacarpal</frameName>
        <updateRate>100.0</updateRate>
        <bumperTopicName>contacts/lh_lf/metacarpal</bumperTopicName>
      </plugin>
    </sensor>
    <selfCollide>true</selfCollide>
  </gazebo>
  <link name="lh_lfknuckle">
    <inertial>
      <origin rpy="0 0 0" xyz="0 0 0"/>
      <mass value="0.008"/>
      <inertia ixx="0.00000026" ixy="0.0" ixz="0.0" iyy="0.00000026" iyz="0.0" izz="0.00000032"/>
    </inertial>
    <visual>
      <origin rpy="0 0 0" xyz="0 0 0.0005"/>
      <geometry name="lh_lfknuckle_visual">
        <mesh filename="package://sr_description/meshes/hand/knuckle.dae" scale="0.001 0.001 0.001"/>
      </geometry>
      <material name="LightGrey"/>
    </visual>
    <collision>
      <origin rpy="0 1.5708 0" xyz="0 0 0"/>
      <geometry name="lh_lfknuckle_collision_geom">
        <cylinder length="0.014" radius="0.007"/>
      </geometry>
    </collision>
  </link>
  <joint name="lh_LFJ4" type="revolute">
    <parent link="lh_lfmetacarpal"/>
    <child link="lh_lfknuckle"/>
    <!--<origin xyz="0.033 0 0.095" rpy="0 0 0" />-->
    <origin rpy="0 0 0" xyz="0 0 0.06579"/>
    <axis xyz="0 -1.0 0"/>
    <limit effort="4.0" lower="-0.349065850399" upper="0.349065850399" velocity="2.0"/>
    <dynamics damping="0.1"/>
  </joint>
  <gazebo reference="lh_LFJ4">
    <provideFeedback>1</provideFeedback>
    <implicitSpringDamper>1</implicitSpringDamper>
  </gazebo>
  <transmission name="lh_lfknuckle_transmission">
    <type>sr_mechanism_model/SimpleTransmission</type>
    <actuator name="lh_LFJ4">
      <mechanicalReduction>1</mechanicalReduction>
    </actuator>
    <joint name="lh_LFJ4">
      <hardwareInterface>hardware_interface/EffortJointInterface</hardwareInterface>
    </joint>
  </transmission>
  <!-- prefix can be anything but usually is "r_" or  "l_" for right and left hands distinction -->
  <gazebo reference="lh_lfknuckle">
    <sensor name="lh_lfknuckle_contact" type="contact">
      <always_on>1</always_on>
      <update_rate>1000.0</update_rate>
      <contact>
        <collision>lh_lfknuckle_collision</collision>
        <topic>lh_lfknuckle_collision</topic>
      </contact>
      <plugin filename="libgazebo_ros_bumper.so" name="lh_lfknuckle_gazebo_ros_bumper_controller">
        <alwaysOn>true</alwaysOn>
        <frameName>lh_lfknuckle</frameName>
        <updateRate>100.0</updateRate>
        <bumperTopicName>contacts/lh_lf/knuckle</bumperTopicName>
      </plugin>
    </sensor>
    <material>Gazebo/Grey</material>
  </gazebo>
  <link name="lh_lfproximal">
    <inertial>
      <mass value="0.030"/>
      <origin xyz="0 0 0.0225"/>
      <inertia ixx="0.0000098" ixy="0.0" ixz="0.0" iyy="0.00001" iyz="0.0" izz="0.0000018"/>
    </inertial>
    <visual>
      <origin rpy="0 0 0" xyz="0 0 0"/>
      <geometry name="lh_lfproximal_visual">
        <mesh filename="package://sr_description/meshes/hand/F3.dae" scale="0.001 0.001 0.001"/>
      </geometry>
      <material name="Grey"/>
    </visual>
    <collision>
      <origin rpy="0 0 0" xyz="0 0 0.025"/>
      <geometry name="lh_lfproximal_collision_geom">
        <cylinder length="0.040" radius="0.007"/>
      </geometry>
    </collision>
  </link>
  <joint name="lh_LFJ3" type="revolute">
    <parent link="lh_lfknuckle"/>
    <child link="lh_lfproximal"/>
    <origin rpy="0 0 0" xyz="0 0 0"/>
    <axis xyz="1 0 0"/>
    <limit effort="4.0" lower="0" upper="1.57079632679" velocity="2.0"/>
    <dynamics damping="0.1"/>
  </joint>
  <gazebo reference="lh_LFJ3">
    <provideFeedback>1</provideFeedback>
    <implicitSpringDamper>1</implicitSpringDamper>
  </gazebo>
  <transmission name="lh_lfproximal_transmission">
    <type>sr_mechanism_model/SimpleTransmission</type>
    <actuator name="lh_LFJ3">
      <mechanicalReduction>1</mechanicalReduction>
    </actuator>
    <joint name="lh_LFJ3">
      <hardwareInterface>hardware_interface/EffortJointInterface</hardwareInterface>
    </joint>
  </transmission>
  <!-- prefix can be anything but usually is "r_" or  "l_" for right and left hands distinction -->
  <gazebo reference="lh_lfproximal">
    <sensor name="lh_lfproximal_contact" type="contact">
      <always_on>1</always_on>
      <update_rate>1000.0</update_rate>
      <contact>
        <collision>lh_lfproximal_collision</collision>
        <topic>lh_lfproximal_collision</topic>
      </contact>
      <plugin filename="libgazebo_ros_bumper.so" name="lh_lfproximal_gazebo_ros_bumper_controller">
        <alwaysOn>true</alwaysOn>
        <frameName>lh_lfproximal</frameName>
        <updateRate>100.0</updateRate>
        <bumperTopicName>contacts/lh_lf/proximal</bumperTopicName>
      </plugin>
    </sensor>
    <selfCollide>true</selfCollide>
  </gazebo>
  <link name="lh_lfmiddle">
    <inertial>
      <origin rpy="0 0 0" xyz="0 0 0.0125"/>
      <mass value="0.017"/>
      <inertia ixx="0.0000026" ixy="0.0" ixz="0.0" iyy="0.0000027" iyz="0.0" izz="0.00000087"/>
    </inertial>
    <visual>
      <origin rpy="0 0 0" xyz="0 0 0"/>
      <geometry name="lh_lfmiddle_visual">
        <mesh filename="package://sr_description/meshes/hand/F2.dae" scale="0.001 0.001 0.001"/>
      </geometry>
      <material name="Grey"/>
    </visual>
    <collision>
      <origin rpy="0 0 0" xyz="0 0 0.0125"/>
      <geometry name="lh_lfmiddle_collision_geom">
        <cylinder length="0.025" radius="0.007"/>
      </geometry>
    </collision>
    <collision>
      <origin rpy="0 0 0" xyz="0 0 0.0"/>
      <geometry>
        <sphere radius="0.007"/>
      </geometry>
    </collision>
    <collision>
      <origin rpy="0 0 0" xyz="0 0 0.025"/>
      <geometry>
        <sphere radius="0.007"/>
      </geometry>
    </collision>
  </link>
  <joint name="lh_LFJ2" type="revolute">
    <parent link="lh_lfproximal"/>
    <child link="lh_lfmiddle"/>
    <origin rpy="0 0 0" xyz="0 0 0.045"/>
    <axis xyz="1 0 0"/>
    <limit effort="4.0" lower="0" upper="1.57079632679" velocity="2.0"/>
    <dynamics damping="0.1"/>
  </joint>
  <gazebo reference="lh_LFJ2">
    <provideFeedback>1</provideFeedback>
    <implicitSpringDamper>1</implicitSpringDamper>
  </gazebo>
  <transmission name="lh_lfmiddle_transmission">
    <type>sr_mechanism_model/SimpleTransmission</type>
    <actuator name="lh_LFJ2">
      <mechanicalReduction>1</mechanicalReduction>
    </actuator>
    <joint name="lh_LFJ2">
      <hardwareInterface>hardware_interface/EffortJointInterface</hardwareInterface>
    </joint>
    <!-- <secondJoint name="${prefix}${joint_prefix}J2"/> -->
  </transmission>
  <!-- prefix can be anything but usually is "r_" or  "l_" for right and left hands distinction -->
  <gazebo reference="lh_lfmiddle">
    <sensor name="lh_lfmiddle_contact" type="contact">
      <always_on>1</always_on>
      <update_rate>1000.0</update_rate>
      <contact>
        <collision>lh_lfmiddle_collision</collision>
        <topic>lh_lfmiddle_collision</topic>
      </contact>
      <plugin filename="libgazebo_ros_bumper.so" name="lh_lfproximal_gazebo_ros_bumper_controller">
        <alwaysOn>true</alwaysOn>
        <frameName>lh_lfmiddle</frameName>
        <updateRate>100.0</updateRate>
        <bumperTopicName>contacts/lh_lf/middle</bumperTopicName>
      </plugin>
    </sensor>
    <selfCollide>true</selfCollide>
  </gazebo>
  <link name="lh_lfdistal">
    <inertial>
      <mass value="0.012"/>
      <origin xyz="0 0 0.012"/>
      <inertia ixx="0.00000094" ixy="0.0" ixz="0.0" iyy="0.0000011" iyz="0.0" izz="0.00000053"/>
    </inertial>
    <visual>
      <origin rpy="0 0 0" xyz="0 0 0"/>
      <geometry name="lh_lfdistal_visual">
        <!-- Standard distal  -->
        <mesh filename="package://sr_description/meshes/hand/F1.dae" scale="0.001 0.001 0.001"/>
      </geometry>
      <material name="Grey"/>
    </visual>
    <collision>
      <origin rpy="0 0 0" xyz="0 0 0"/>
      <geometry name="lh_lfdistal_collision_geom">
        <!-- Standard distal  -->
        <mesh filename="package://sr_description/meshes/hand/F1.dae" scale="0.001 0.001 0.001"/>
      </geometry>
    </collision>
  </link>
  <joint name="lh_LFJ1" type="revolute">
    <parent link="lh_lfmiddle"/>
    <child link="lh_lfdistal"/>
    <origin rpy="0 0 0" xyz="0 0 0.025"/>
    <axis xyz="1 0 0"/>
    <!-- standard distal joint -->
    <limit effort="4.0" lower="0" upper="1.57079632679" velocity="2.0"/>
    <dynamics damping="0.1"/>
  </joint>
  <gazebo reference="lh_LFJ1">
    <provideFeedback>1</provideFeedback>
    <implicitSpringDamper>1</implicitSpringDamper>
  </gazebo>
  <link name="lh_lftip">
    <inertial>
      <mass value="0.001"/>
      <inertia ixx="0.0" ixy="0.0" ixz="0.0" iyy="0.0" iyz="0.0" izz="0.0"/>
    </inertial>
  </link>
  <joint name="lh_LFtip" type="fixed">
    <parent link="lh_lfdistal"/>
    <child link="lh_lftip"/>
    <origin rpy="0 0 0" xyz="0 0 0.026"/>
  </joint>
  <transmission name="lh_lfdistal_transmission">
    <type>sr_mechanism_model/SimpleTransmission</type>
    <actuator name="lh_LFJ1">
      <mechanicalReduction>1</mechanicalReduction>
    </actuator>
    <joint name="lh_LFJ1">
      <hardwareInterface>hardware_interface/EffortJointInterface</hardwareInterface>
    </joint>
  </transmission>
  <!-- prefix can be anything but usually is "r_" or  "l_" for right and left hands distinction -->
  <gazebo reference="lh_lfdistal">
    <sensor name="lh_lfdistal_contact" type="contact">
      <always_on>1</always_on>
      <update_rate>1000.0</update_rate>
      <contact>
        <collision>lh_lfdistal_collision</collision>
        <topic>lh_lfdistal_collision</topic>
      </contact>
      <plugin filename="libgazebo_ros_bumper.so" name="lh_lfdistal_gazebo_ros_bumper_controller">
        <alwaysOn>true</alwaysOn>
        <frameName>lh_lfdistal</frameName>
        <updateRate>100.0</updateRate>
        <bumperTopicName>contacts/lh_lf/distal</bumperTopicName>
      </plugin>
    </sensor>
    <mu1 value="500.0"/>
    <mu2 value="500.0"/>
    <kp value="10000000.0"/>
    <kd value="1.0"/>
    <selfCollide>true</selfCollide>
  </gazebo>
  <link name="lh_thbase">
    <inertial>
      <mass value="0.010"/>
      <origin rpy="0 0 0" xyz="0 0 0"/>
      <inertia ixx="0.00000016" ixy="0.0" ixz="0.0" iyy="0.00000016" iyz="0.0" izz="0.00000016"/>
    </inertial>
    <visual>
      <origin rpy="0 0 0" xyz="0 0 0"/>
      <geometry name="lh_thbase_visual">
        <box size="0.001 0.001 0.001"/>
      </geometry>
      <material name="shadow_thbase_material">
        <color rgba="0.5 0.5 0.5 1.0"/>
      </material>
    </visual>
    <collision>
      <origin rpy="0 0 0" xyz="0 0 0"/>
      <geometry name="lh_thbase_collision_geom">
        <sphere radius="0.011"/>
      </geometry>
    </collision>
  </link>
  <joint name="lh_THJ5" type="revolute">
    <parent link="lh_palm"/>
    <child link="lh_thbase"/>
    <origin rpy="0 0.785398163397 3.14159265359" xyz="-0.034 -0.0085 0.029"/>
    <axis xyz="0 0 1.0"/>
    <limit effort="4.0" lower="-1.0471975512" upper="1.0471975512" velocity="4.0"/>
    <dynamics damping="0.2"/>
  </joint>
  <gazebo reference="lh_THJ5">
    <provideFeedback>1</provideFeedback>
    <implicitSpringDamper>1</implicitSpringDamper>
  </gazebo>
  <transmission name="lh_thbase_transmission">
    <type>sr_mechanism_model/SimpleTransmission</type>
    <actuator name="lh_THJ5">
      <mechanicalReduction>1</mechanicalReduction>
    </actuator>
    <joint name="lh_THJ5">
      <hardwareInterface>hardware_interface/EffortJointInterface</hardwareInterface>
    </joint>
  </transmission>
  <!-- prefix can be anything but usually is "r_" or  "l_" for right and left hands distinction -->
  <gazebo reference="lh_thbase">
    <sensor name="lh_thbase_contact" type="contact">
      <always_on>1</always_on>
      <update_rate>1000.0</update_rate>
      <contact>
        <collision>lh_thbase_collision</collision>
        <topic>lh_thbase_collision</topic>
      </contact>
      <plugin filename="libgazebo_ros_bumper.so" name="lh_thbase_gazebo_ros_bumper_controller">
        <alwaysOn>true</alwaysOn>
        <frameName>lh_thbase</frameName>
        <updateRate>100.0</updateRate>
        <bumperTopicName>contacts/lh_th/base</bumperTopicName>
      </plugin>
    </sensor>
    <selfCollide>false</selfCollide>
  </gazebo>
  <link name="lh_thproximal">
    <inertial>
      <mass value="0.040"/>
      <origin rpy="0 0 0" xyz="0 0 0.019"/>
      <inertia ixx="0.0000136" ixy="0.0" ixz="0.0" iyy="0.0000136" iyz="0.0" izz="0.00000313"/>
    </inertial>
    <visual>
      <origin rpy="0 0 0" xyz="0 0 0"/>
      <geometry name="lh_thproximal_visual">
        <mesh filename="package://sr_description/meshes/hand/TH3_z.dae" scale="0.001 0.001 0.001"/>
      </geometry>
      <material name="shadow_thproximal_material">
        <color rgba="0.2 0.2 0.2 1.0"/>
      </material>
    </visual>
    <collision>
      <origin rpy="0 0 0" xyz="0 0 0.020"/>
      <geometry name="lh_thproximal_collision_geom">
        <cylinder length="0.018" radius="0.012"/>
      </geometry>
    </collision>
  </link>
  <joint name="lh_THJ4" type="revolute">
    <parent link="lh_thbase"/>
    <child link="lh_thproximal"/>
    <origin rpy="0 0 0" xyz="0 0 0"/>
    <axis xyz="-1.0 0 0"/>
    <limit effort="4.0" lower="0.0" upper="1.2217304764" velocity="4.0"/>
    <dynamics damping="0.2"/>
  </joint>
  <gazebo reference="lh_THJ4">
    <provideFeedback>1</provideFeedback>
    <implicitSpringDamper>1</implicitSpringDamper>
  </gazebo>
  <transmission name="lh_thproximal_transmission">
    <type>sr_mechanism_model/SimpleTransmission</type>
    <actuator name="lh_THJ4">
      <mechanicalReduction>1</mechanicalReduction>
    </actuator>
    <joint name="lh_THJ4">
      <hardwareInterface>hardware_interface/EffortJointInterface</hardwareInterface>
    </joint>
  </transmission>
  <!-- prefix can be anything but usually is "r_" or  "l_" for right and left hands distinction -->
  <gazebo reference="lh_thproximal">
    <sensor name="lh_thproximal_contact" type="contact">
      <always_on>1</always_on>
      <update_rate>1000.0</update_rate>
      <contact>
        <collision>lh_thproximal_collision</collision>
        <topic>lh_thproximal_collision</topic>
      </contact>
      <plugin filename="libgazebo_ros_bumper.so" name="lh_thproximal_gazebo_ros_bumper_controller">
        <alwaysOn>true</alwaysOn>
        <frameName>lh_thproximal</frameName>
        <updateRate>100.0</updateRate>
        <bumperTopicName>contacts/lh_th/proximal</bumperTopicName>
      </plugin>
    </sensor>
    <selfCollide>false</selfCollide>
  </gazebo>
  <link name="lh_thhub">
    <inertial>
      <mass value="0.005"/>
      <origin rpy="0 0 0" xyz="0 0 0"/>
      <inertia ixx="0.000001" ixy="0.0" ixz="0.0" iyy="0.000001" iyz="0.0" izz="0.0000003"/>
    </inertial>
    <visual>
      <origin rpy="0 0 0" xyz="0 0 0"/>
      <geometry name="lh_thhub_visual">
        <box size="0.001 0.001 0.001"/>
      </geometry>
      <material name="shadow_thhub_material">
        <color rgba="0.7 0.7 0.7 1.0"/>
      </material>
    </visual>
    <collision>
      <origin rpy="0 0 0" xyz="0 0 0"/>
      <geometry name="lh_thhub_collision_geom">
        <sphere radius="0.010"/>
      </geometry>
    </collision>
  </link>
  <joint name="lh_THJ3" type="revolute">
    <parent link="lh_thproximal"/>
    <child link="lh_thhub"/>
    <origin rpy="0 0 0" xyz="0 0 0.038"/>
    <axis xyz="1 0 0"/>
    <limit effort="4.0" lower="-0.209439510239" upper="0.209439510239" velocity="4.0"/>
    <dynamics damping="0.2"/>
  </joint>
  <gazebo reference="lh_THJ3">
    <provideFeedback>1</provideFeedback>
    <implicitSpringDamper>1</implicitSpringDamper>
  </gazebo>
  <transmission name="lh_thhub_transmission">
    <type>sr_mechanism_model/SimpleTransmission</type>
    <actuator name="lh_THJ3">
      <mechanicalReduction>1</mechanicalReduction>
    </actuator>
    <joint name="lh_THJ3">
      <hardwareInterface>hardware_interface/EffortJointInterface</hardwareInterface>
    </joint>
  </transmission>
  <!-- prefix can be anything but usually is "r_" or  "l_" for right and left hands distinction -->
  <gazebo reference="lh_thhub">
    <sensor name="lh_thhub_contact" type="contact">
      <always_on>1</always_on>
      <update_rate>1000.0</update_rate>
      <contact>
        <collision>lh_thhub_collision</collision>
        <topic>lh_thhub_collision</topic>
      </contact>
      <plugin filename="libgazebo_ros_bumper.so" name="lh_thhub_gazebo_ros_bumper_controller">
        <alwaysOn>true</alwaysOn>
        <frameName>lh_thhub</frameName>
        <updateRate>100.0</updateRate>
        <bumperTopicName>contacts/lh_th/hub</bumperTopicName>
      </plugin>
    </sensor>
    <selfCollide>true</selfCollide>
  </gazebo>
  <link name="lh_thmiddle">
    <inertial>
      <mass value="0.020"/>
      <origin rpy="0 0 0" xyz="0 0 0.016"/>
      <inertia ixx="0.0000051" ixy="0.0" ixz="0.0" iyy="0.0000051" iyz="0.0" izz="0.00000121"/>
    </inertial>
    <visual>
      <origin rpy="0 0 0" xyz="0 0 0"/>
      <geometry name="lh_thmiddle_visual">
        <mesh filename="package://sr_description/meshes/hand/TH2_z.dae" scale="0.001 0.001 0.001"/>
      </geometry>
      <material name="shadow_thmiddle_material">
        <color rgba="0.2 0.2 0.2 1.0"/>
      </material>
    </visual>
    <collision>
      <origin rpy="0 0 0" xyz="0 0 0.012"/>
      <geometry name="lh_thmiddle_collision_geom">
        <cylinder length="0.018" radius="0.011"/>
      </geometry>
    </collision>
    <collision>
      <origin rpy="0 0 0" xyz="0 0 0.019"/>
      <geometry>
        <sphere radius="0.011"/>
      </geometry>
    </collision>
  </link>
  <joint name="lh_THJ2" type="revolute">
    <parent link="lh_thhub"/>
    <child link="lh_thmiddle"/>
    <origin rpy="0 0 0" xyz="0 0 0"/>
    <axis xyz="0 -1 0"/>
    <limit effort="4.0" lower="-0.698131700798" upper="0.698131700798" velocity="2.0"/>
    <dynamics damping="0.1"/>
  </joint>
  <gazebo reference="lh_THJ2">
    <provideFeedback>1</provideFeedback>
    <implicitSpringDamper>1</implicitSpringDamper>
  </gazebo>
  <transmission name="lh_thmiddle_transmission">
    <type>sr_mechanism_model/SimpleTransmission</type>
    <actuator name="lh_THJ2">
      <mechanicalReduction>1</mechanicalReduction>
    </actuator>
    <joint name="lh_THJ2">
      <hardwareInterface>hardware_interface/EffortJointInterface</hardwareInterface>
    </joint>
  </transmission>
  <!-- prefix can be anything but usually is "r_" or  "l_" for right and left hands distinction -->
  <gazebo reference="lh_thmiddle">
    <sensor name="lh_thmiddle_contact" type="contact">
      <always_on>1</always_on>
      <update_rate>1000.0</update_rate>
      <contact>
        <collision>lh_thmiddle_collision</collision>
        <topic>lh_thmiddle_collision</topic>
      </contact>
      <plugin filename="libgazebo_ros_bumper.so" name="lh_thmiddle_gazebo_ros_bumper_controller">
        <alwaysOn>true</alwaysOn>
        <frameName>lh_thmiddle</frameName>
        <updateRate>100.0</updateRate>
        <bumperTopicName>contacts/lh_th/middle</bumperTopicName>
      </plugin>
    </sensor>
    <selfCollide>true</selfCollide>
  </gazebo>
  <!-- common -->
  <link name="lh_thdistal">
    <inertial>
      <mass value="0.016"/>
      <origin rpy="0 0 0" xyz="0 0 0.01375"/>
      <inertia ixx="0.0000021" ixy="0.0" ixz="0.0" iyy="0.0000022" iyz="0.0" izz="0.000001"/>
    </inertial>
    <visual>
      <origin rpy="0 0 0" xyz="0 0 0"/>
      <geometry name="lh_thdistal_visual">
        <!-- Standard distal  -->
        <mesh filename="package://sr_description/meshes/hand/TH1_z.dae" scale="0.001 0.001 0.001"/>
      </geometry>
      <material name="shadow_thmiddle_material">
        <color rgba="0.2 0.2 0.2 1.0"/>
      </material>
    </visual>
    <collision>
      <origin rpy="0 0 0" xyz="0 0 0"/>
      <geometry name="lh_thmiddle_collision_geom">
        <!-- Standard distal  -->
        <mesh filename="package://sr_description/meshes/hand/TH1_z.dae" scale="0.001 0.001 0.001"/>
        <!--      <box size="0.015 0.015 0.015" /> -->
      </geometry>
    </collision>
  </link>
  <joint name="lh_THJ1" type="revolute">
    <parent link="lh_thmiddle"/>
    <child link="lh_thdistal"/>
    <origin rpy="0 0 -1.57079632679" xyz="0 0 0.032"/>
    <axis xyz="1 0 0"/>
    <limit effort="4.0" lower="0" upper="1.57079632679" velocity="4.0"/>
    <dynamics damping="0.2"/>
  </joint>
  <gazebo reference="lh_THJ1">
    <provideFeedback>1</provideFeedback>
    <implicitSpringDamper>1</implicitSpringDamper>
  </gazebo>
  <link name="lh_thtip">
    <inertial>
      <mass value="0.001"/>
      <inertia ixx="0.0" ixy="0.0" ixz="0.0" iyy="0.0" iyz="0.0" izz="0.0"/>
    </inertial>
  </link>
  <joint name="lh_thtip" type="fixed">
    <parent link="lh_thdistal"/>
    <child link="lh_thtip"/>
    <origin rpy="0 0 0" xyz="0 0 0.0275"/>
  </joint>
  <!-- prefix can be anything but usually is "r_" or  "l_" for right and left hands distinction -->
  <gazebo reference="lh_thdistal">
    <sensor name="lh_thdistal_contact" type="contact">
      <always_on>1</always_on>
      <update_rate>1000.0</update_rate>
      <contact>
        <collision>lh_thdistal_collision</collision>
        <topic>lh_thdistal_collision</topic>
      </contact>
      <plugin filename="libgazebo_ros_bumper.so" name="lh_thdistal_gazebo_ros_bumper_controller">
        <alwaysOn>true</alwaysOn>
        <frameName>lh_thdistal</frameName>
        <updateRate>100.0</updateRate>
        <bumperTopicName>contacts/lh_th/distal</bumperTopicName>
      </plugin>
    </sensor>
    <mu1 value="500.0"/>
    <mu2 value="500.0"/>
    <kp value="10000000.0"/>
    <kd value="1.0"/>
    <selfCollide>true</selfCollide>
  </gazebo>
  <transmission name="lh_thdistal_transmission">
    <type>sr_mechanism_model/SimpleTransmission</type>
    <actuator name="lh_THJ1">
      <mechanicalReduction>1</mechanicalReduction>
    </actuator>
    <joint name="lh_THJ1">
      <hardwareInterface>hardware_interface/EffortJointInterface</hardwareInterface>
    </joint>
  </transmission>
</robot>
